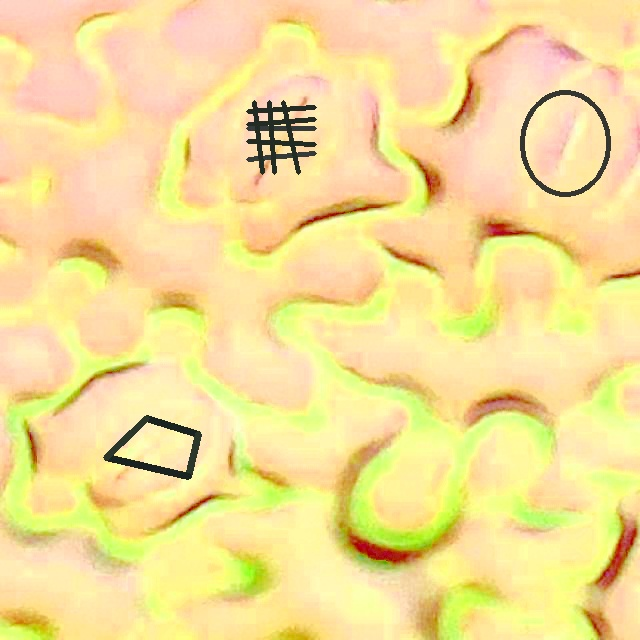close: (518, 89, 612, 198), (104, 415, 200, 478), (247, 101, 316, 173)
